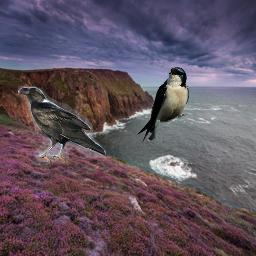Crow: (18, 86, 106, 166)
Swallow: (137, 67, 189, 144)
